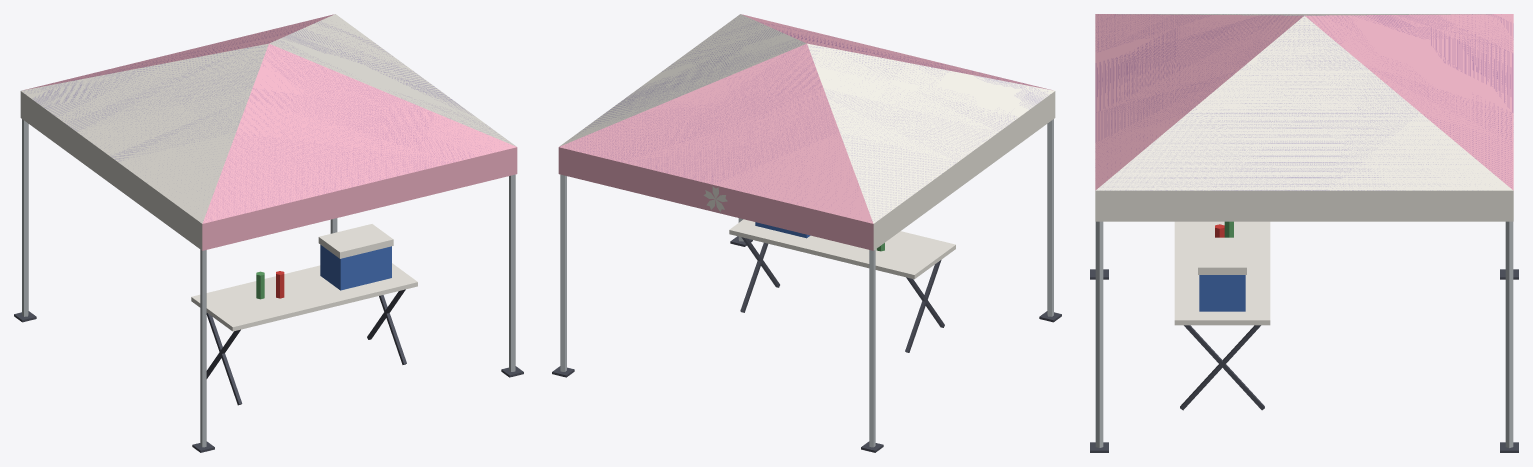
The model's file is tent.glb.
3 renders of one model, left to right at view 1: azimuth 30°, elevation 25°; view 2: azimuth 150°, elevation 25°; view 3: azimuth 270°, elevation 25°, orthographic. The views are drawn at different scales.
Visible parts, largest first — view 1: tent; view 2: tent; view 3: tent.
Part boxes in pixels (left/top/right/bottom): tent: left=14, top=14, right=523, bottom=452; tent: left=552, top=14, right=1061, bottom=452; tent: left=1090, top=14, right=1518, bottom=452.
Bounding box in the file's own units: 3.14 × 2.81 × 3.14.
